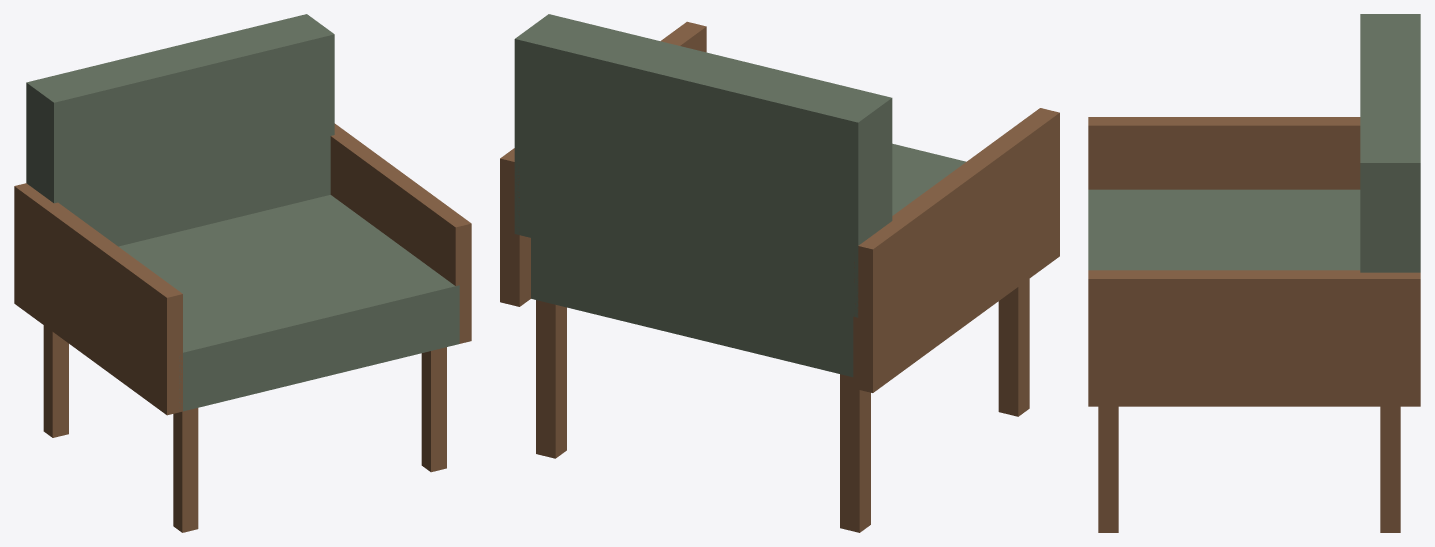
Rendered from loungestol.fbx.
The picture shows the model from 3 angles, left to right: view 1: azimuth 30°, elevation 25°; view 2: azimuth 150°, elevation 25°; view 3: azimuth 270°, elevation 25°; orthographic projection. The views are drawn at different scales.
Parts seen in each view (by area): view 1: Stof, Stel; view 2: Stof, Stel; view 3: Stel, Stof.
Boxes of the visible parts, box(x1,y1,x2,y2) form: Stof: box(26, 14, 459, 411); Stel: box(14, 123, 471, 532); Stof: box(514, 14, 966, 377); Stel: box(500, 21, 1059, 532); Stel: box(1088, 117, 1420, 532); Stof: box(1088, 14, 1420, 272).
Bounding box in the file's own units: 76 × 82 × 66.
